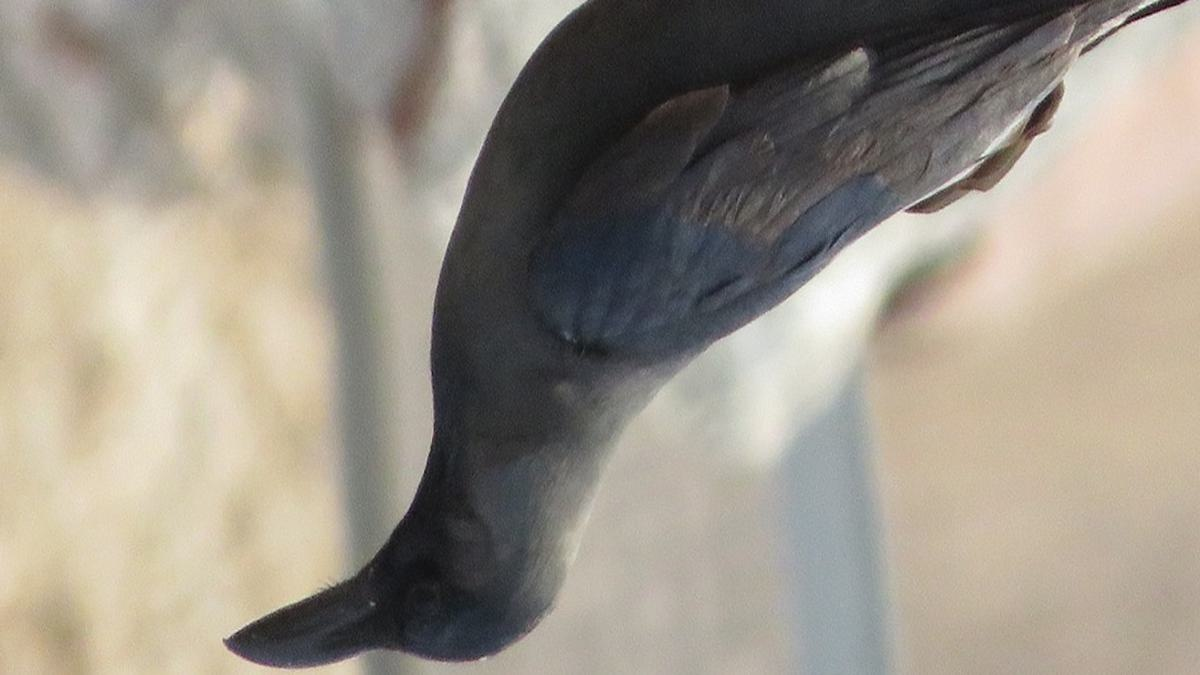crow: (219, 1, 1123, 673)
